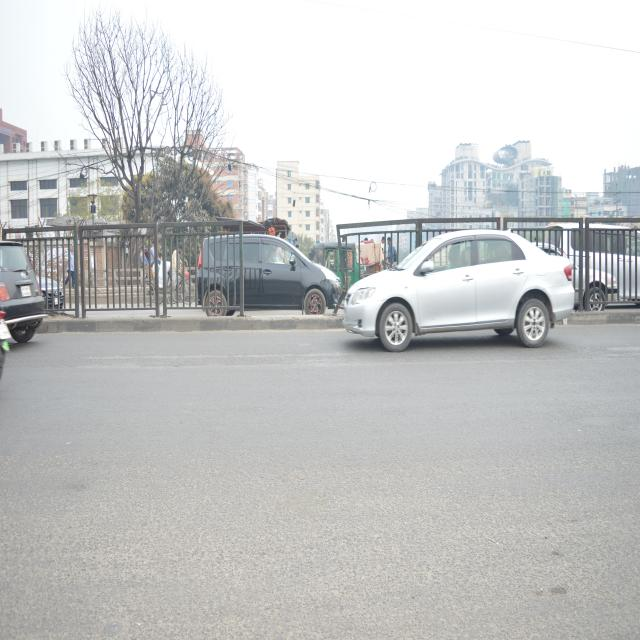car: (344, 234, 573, 348)
microbus: (200, 236, 342, 314)
